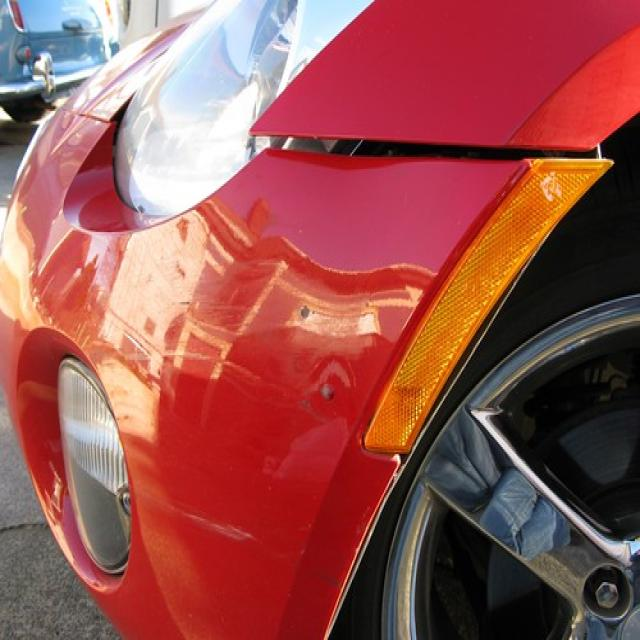misalignment: (254, 137, 616, 163)
scratch: (164, 500, 263, 545)
